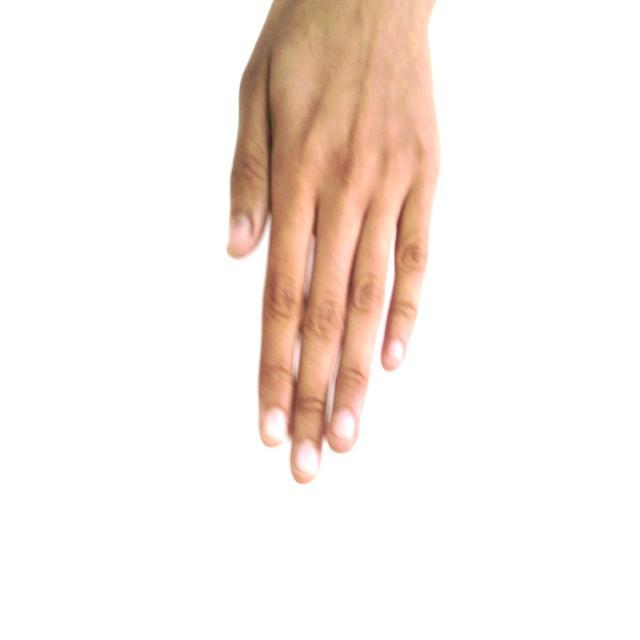Fingernail: (230, 216, 254, 251), (295, 441, 318, 475), (265, 409, 287, 443), (332, 410, 355, 440), (387, 341, 402, 363)
